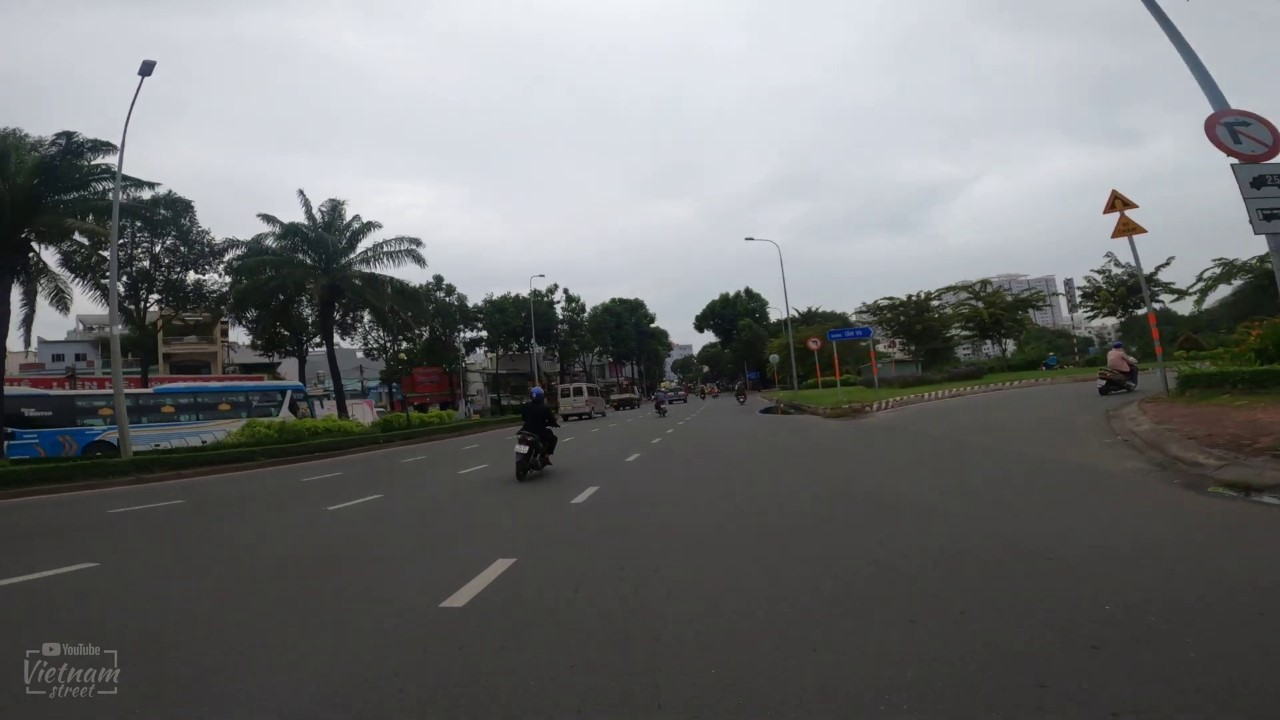cam_re_phai: (1200, 105, 1280, 164)
cam_re_trai: (807, 336, 823, 351)
di_cham: (1109, 213, 1149, 242)
